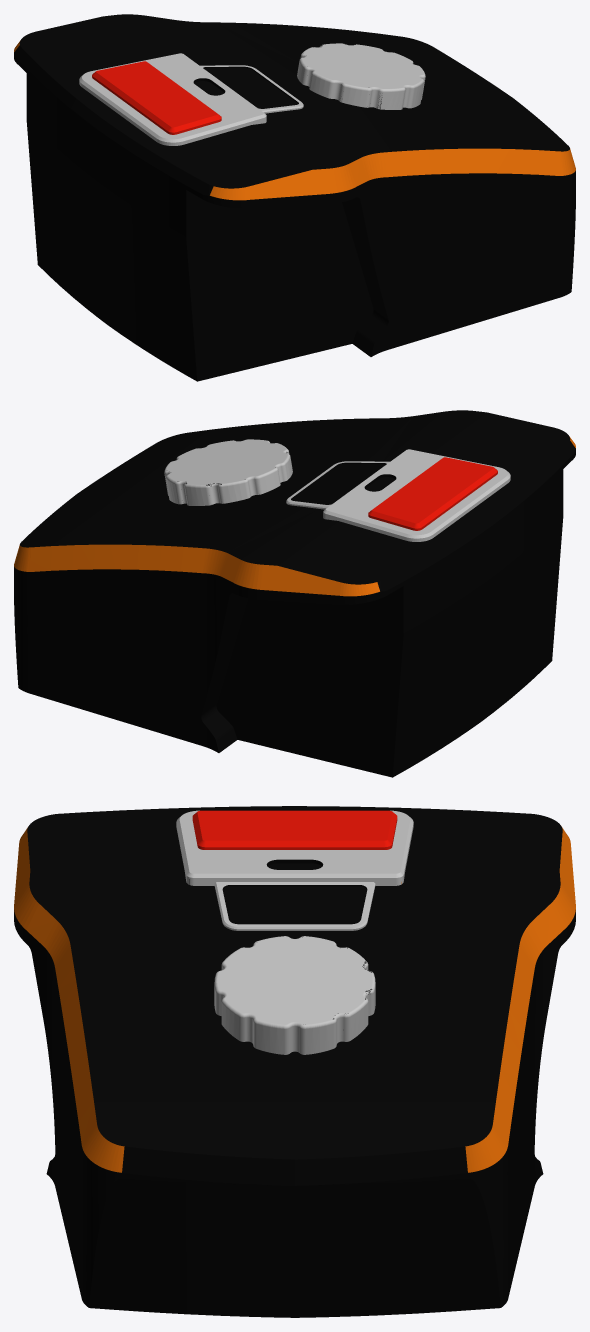
3 views of the same model, one above another, from view 1: azimuth 30°, elevation 25°; view 2: azimuth 150°, elevation 25°; view 3: azimuth 270°, elevation 25° (orthographic). The views are drawn at different scales.
Visible parts, largest first — view 1: node; view 2: node; view 3: node.
Boxes of the visible parts, x1,y1,x2,y2 form: node: (14, 14, 575, 381); node: (14, 410, 575, 777); node: (14, 806, 575, 1317).
Bounding box in the file's own units: 380 × 349 × 190.
